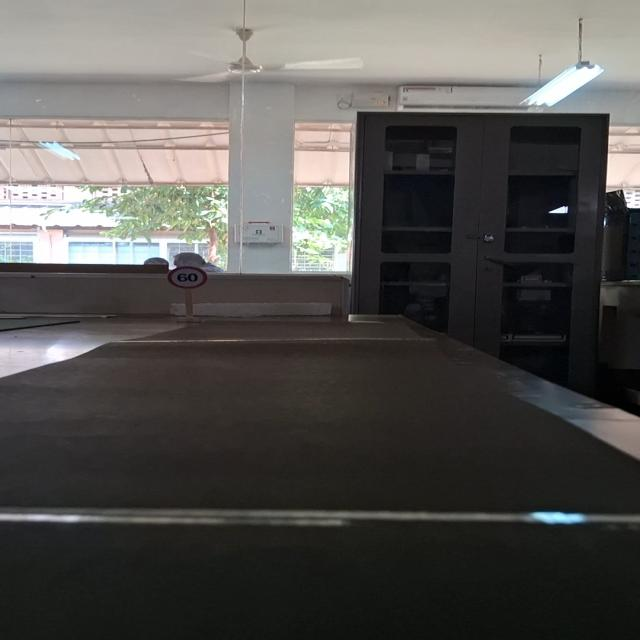Speed60: (165, 265, 209, 290)
